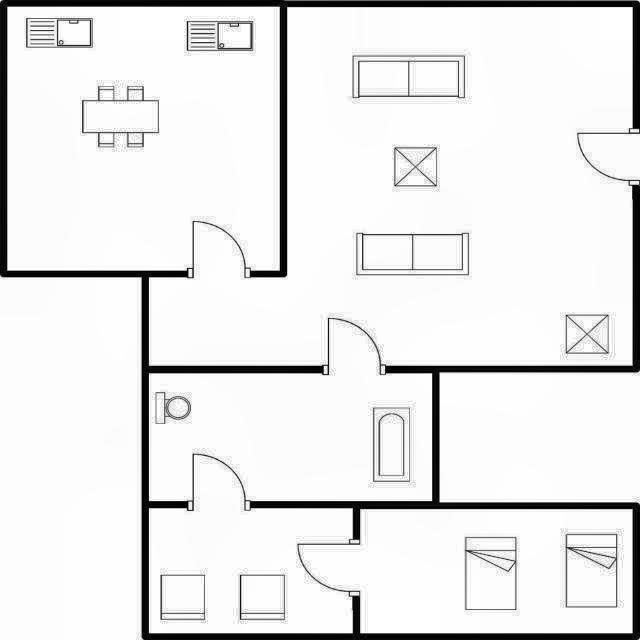room: (149, 6, 634, 365), (8, 8, 279, 272), (150, 373, 432, 501), (360, 509, 633, 633), (150, 509, 353, 633)
